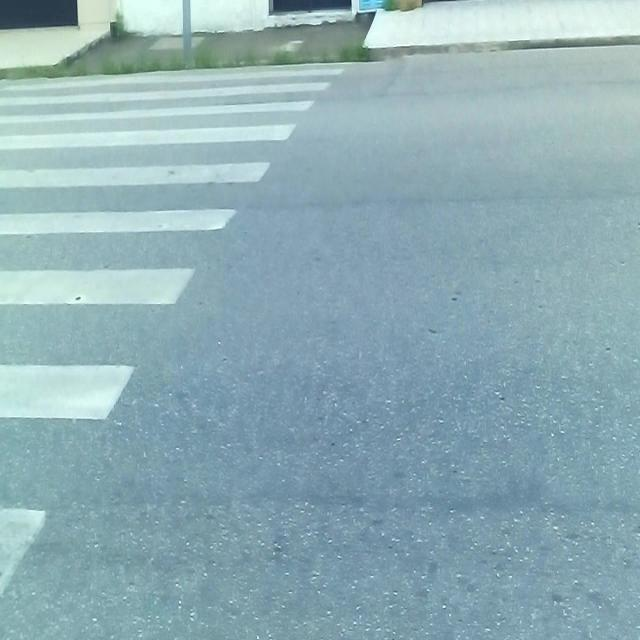crosswalk: (0, 63, 357, 640)
